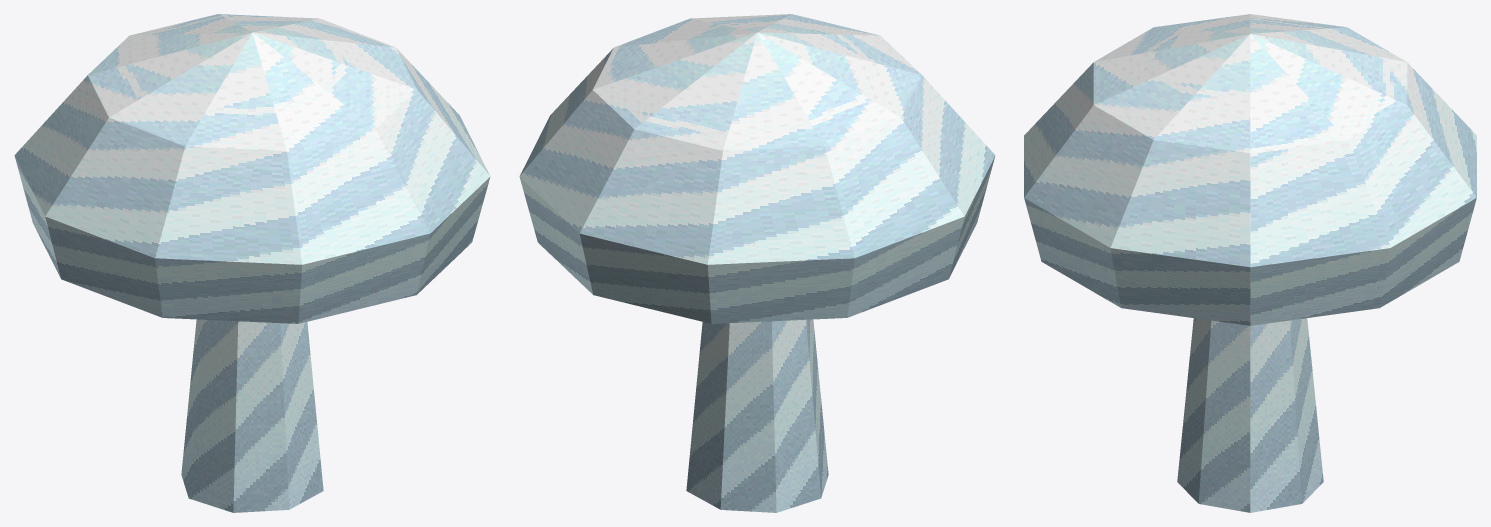
Rendered from cogumelo_de_vidro.glb.
The picture shows the model from 3 angles, left to right: view 1: azimuth 30°, elevation 25°; view 2: azimuth 150°, elevation 25°; view 3: azimuth 270°, elevation 25°; orthographic projection.
Parts seen in each view (by area): view 1: cogumelo_de_vidro; view 2: cogumelo_de_vidro; view 3: cogumelo_de_vidro.
Part boxes in pixels (x1=…): cogumelo_de_vidro: x1=14, y1=14, x2=490, y2=512; cogumelo_de_vidro: x1=519, y1=14, x2=995, y2=512; cogumelo_de_vidro: x1=1024, y1=14, x2=1476, y2=512.
Size of the model in its own units: 0.494 by 0.513 by 0.4698.
Materials: 1 (1 with a texture image).
